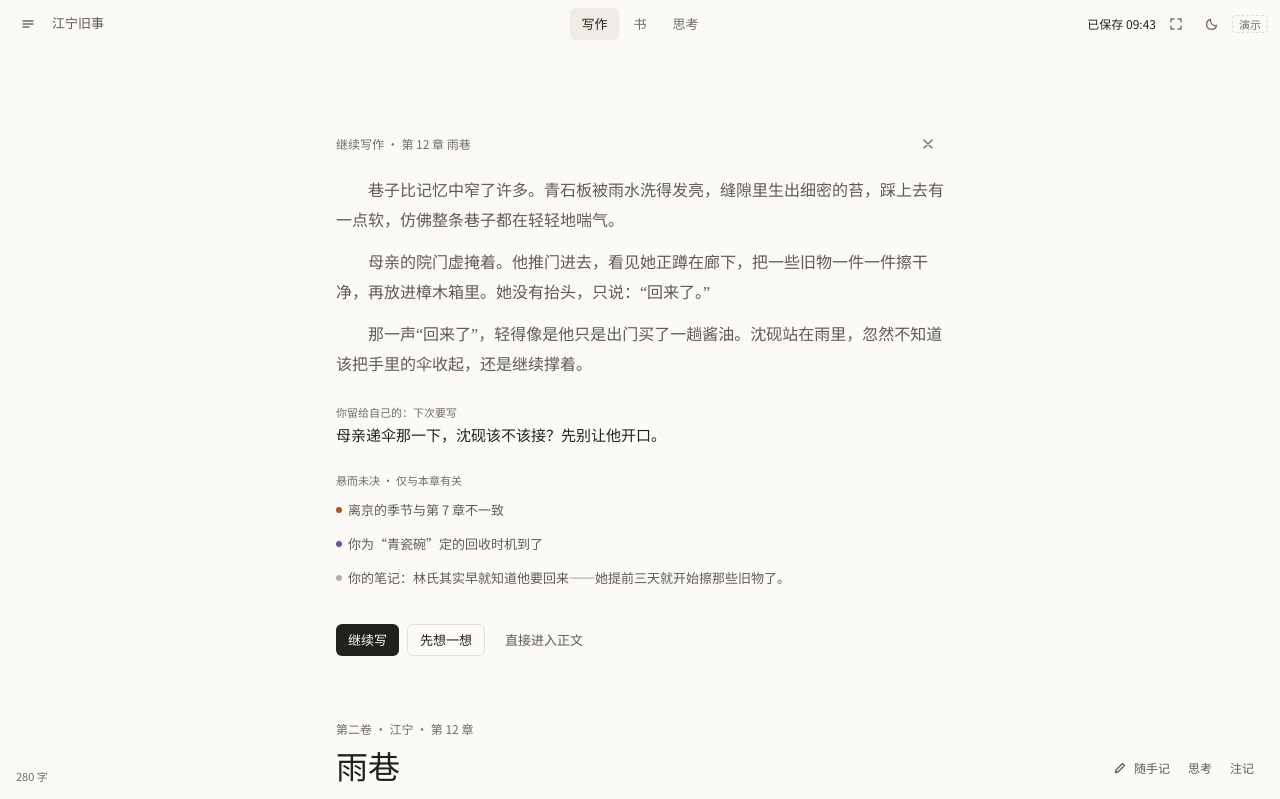
Test: Writer Agent studio › runs the demo thinking challenge workflow and keeps the author in control
Expected: the tab "写作" is shown, [570, 8, 620, 40]
Click the tab "思考" at x=686, y=24, box [660, 8, 710, 40]
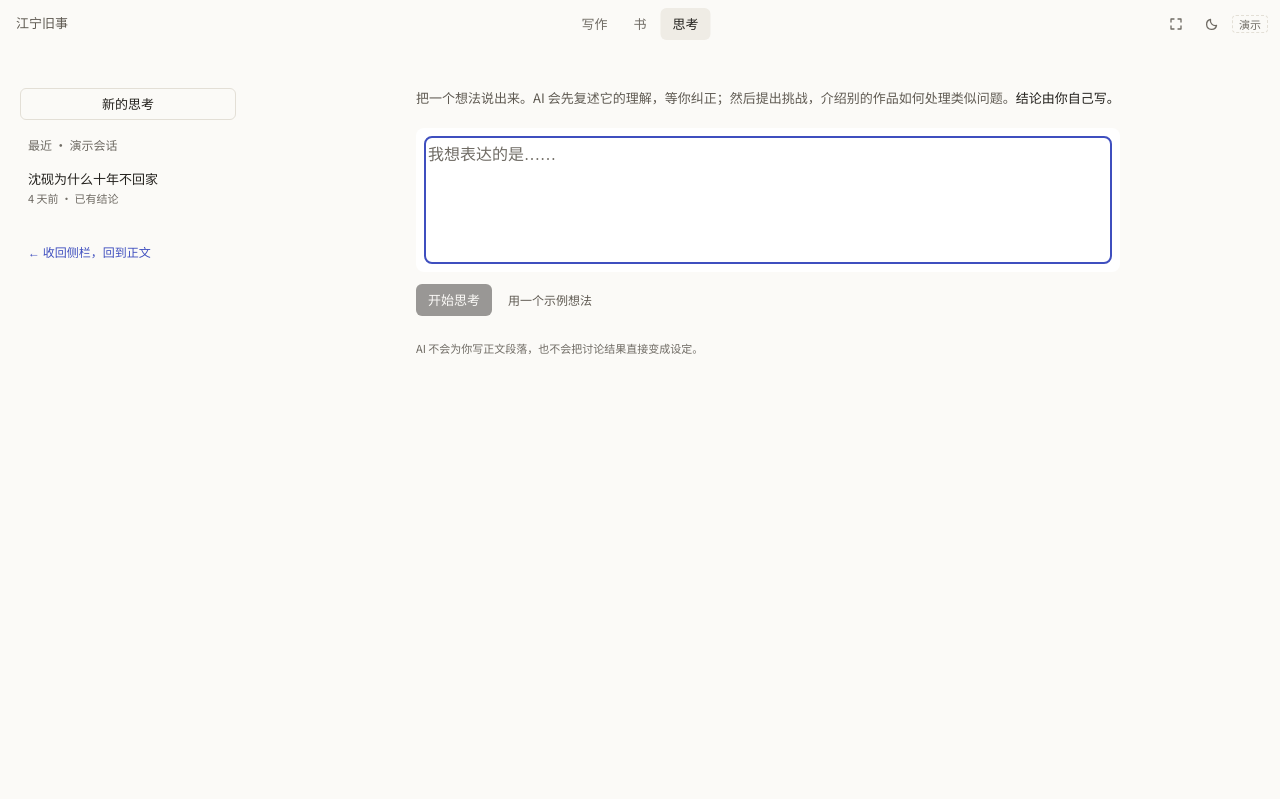
Type "测试作者意图" into the text box named "你的想法" at x=768, y=200, box [428, 140, 1108, 260]
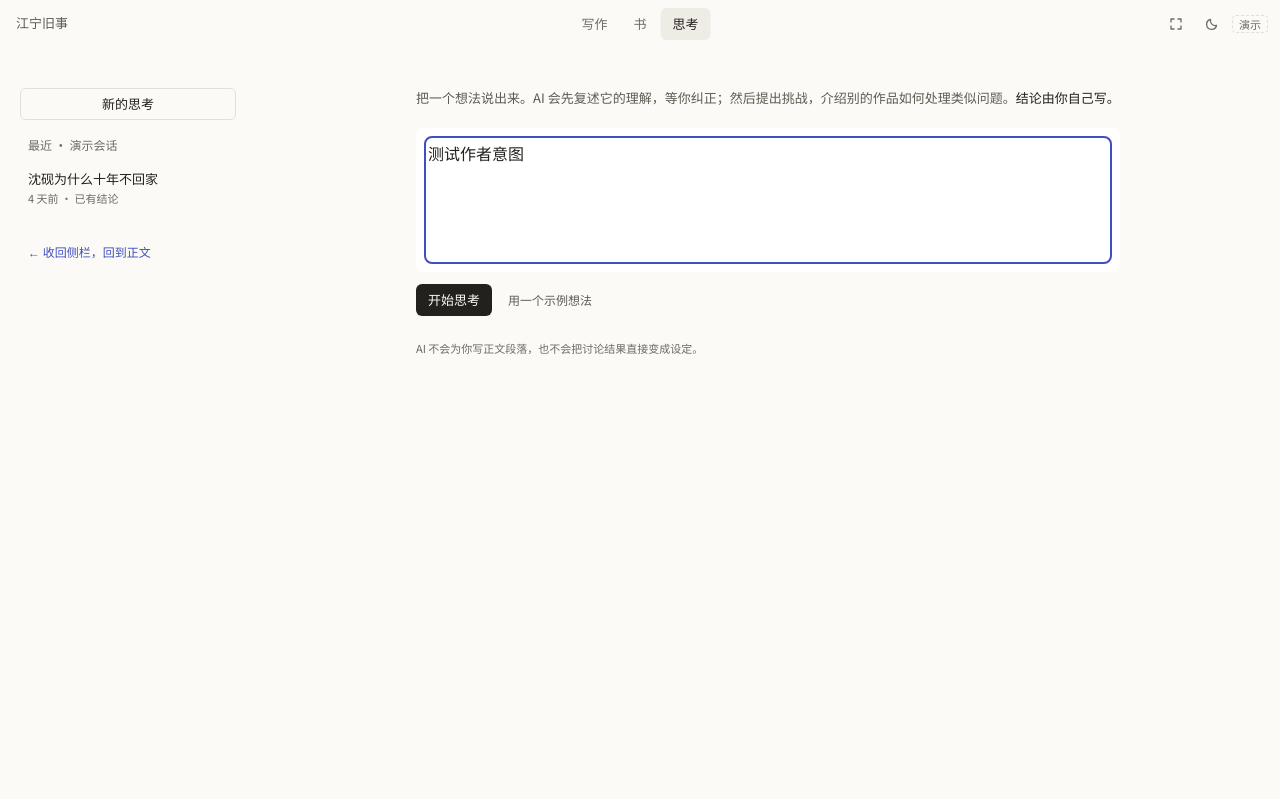
Click the button "开始思考" at x=454, y=300, box [416, 284, 492, 316]
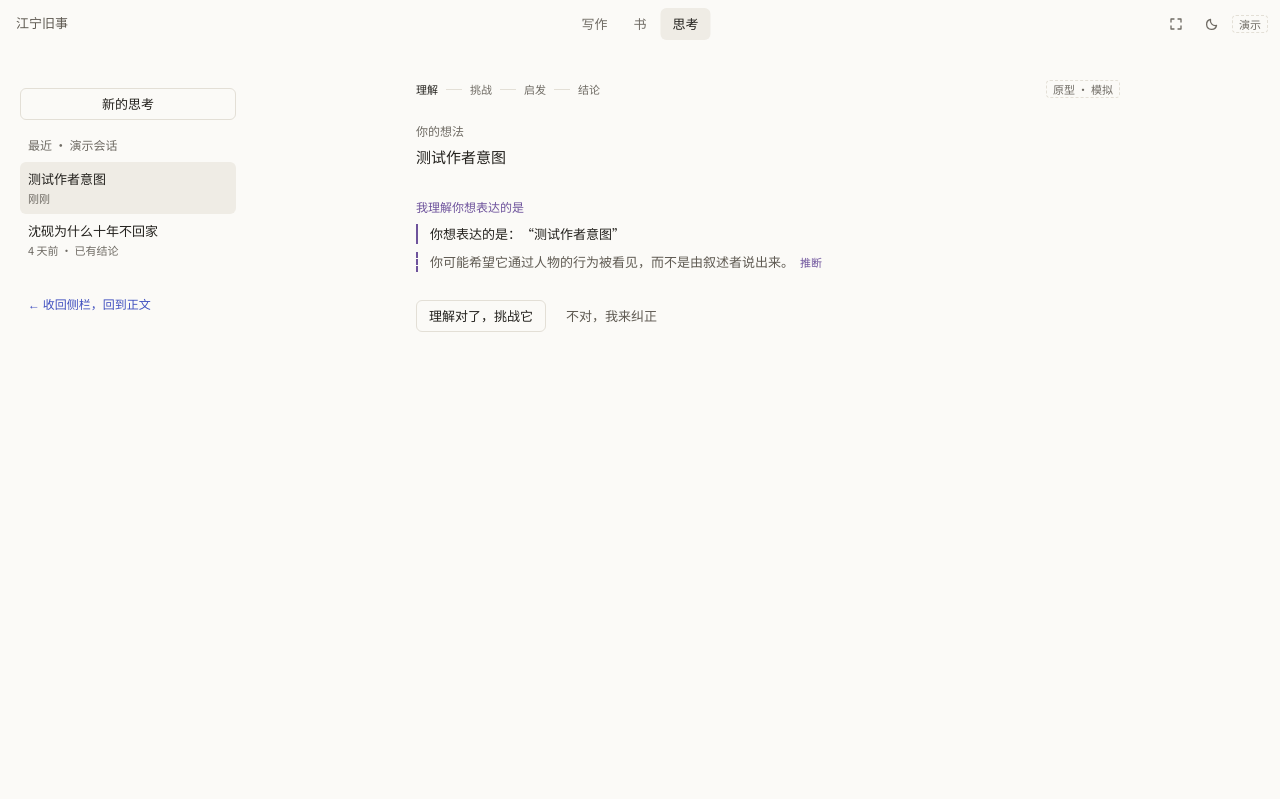
Click the button "理解对了，挑战它" at x=481, y=316, box [416, 300, 546, 332]
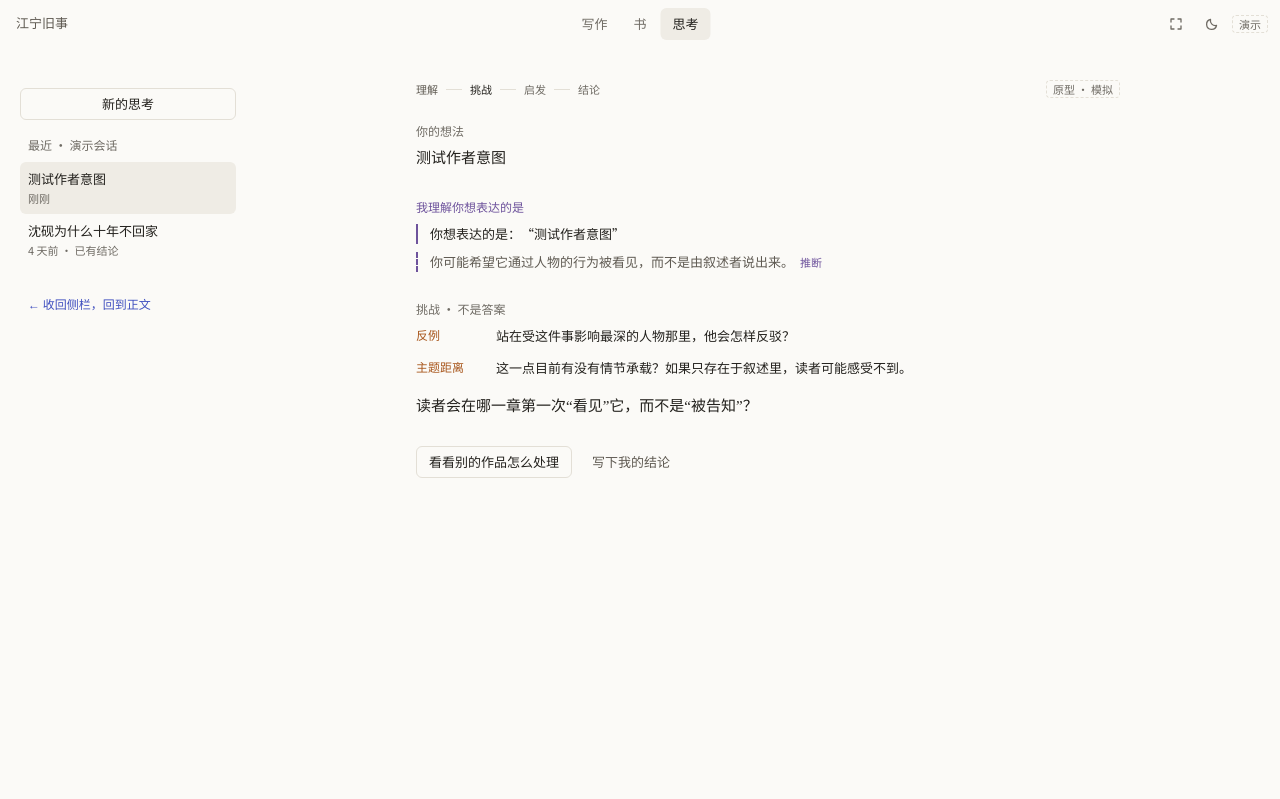
Expected: the text "原型 · 模拟" is shown, [1046, 80, 1120, 98]
Expected: the heading "挑战 · 不是答案" is shown, [416, 300, 505, 317]
